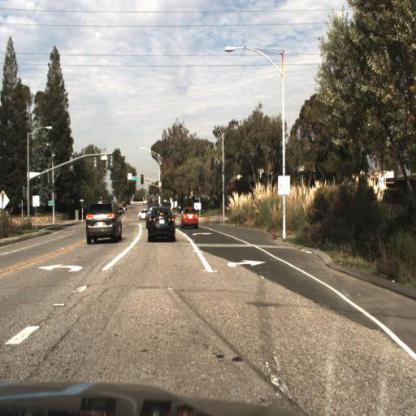car: (85, 197, 124, 246), (148, 206, 177, 245), (144, 201, 157, 230), (181, 208, 197, 230), (140, 210, 150, 222)
trafficLight-Red: (123, 173, 131, 191), (139, 172, 147, 190)
